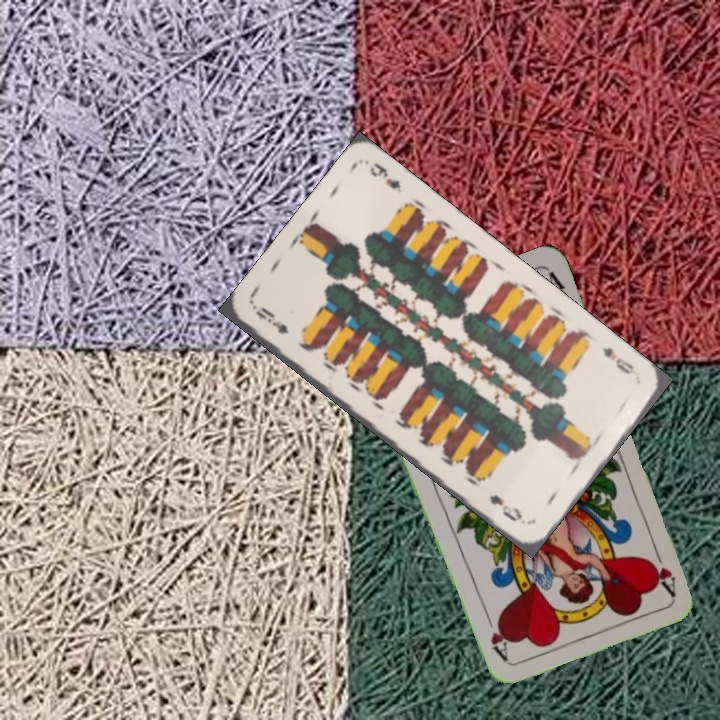E9: (251, 303, 291, 337), (598, 343, 636, 377)
HA: (643, 540, 679, 597)
